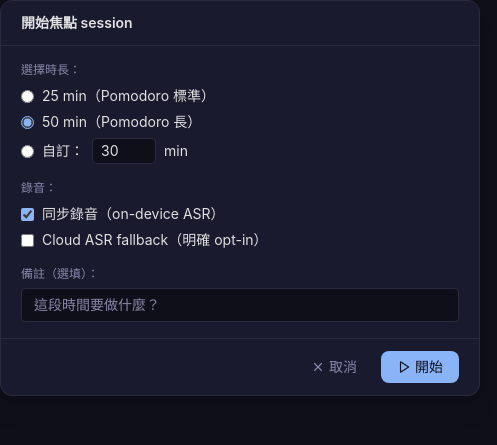
FocusStartSheet screen › does NOT crash and shows an error when startSession resolves with a non-id value
This screenshot has width=497, height=445.
# Primary interaction: click the "開始" (start) CTA in the footer (last button).
Click the button "開始": x=420, y=367 [381,351,459,383]
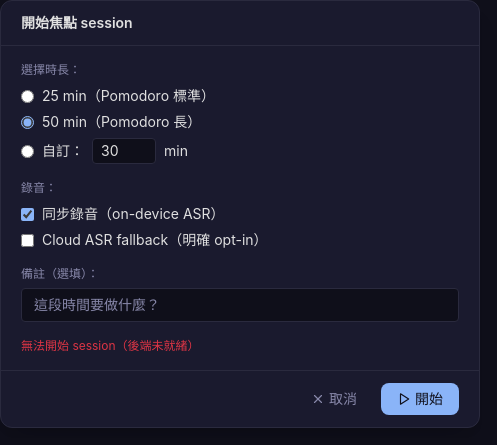
Now the message "無法開始 session（後端未就緒）" is shown, box [21,338,200,353]
